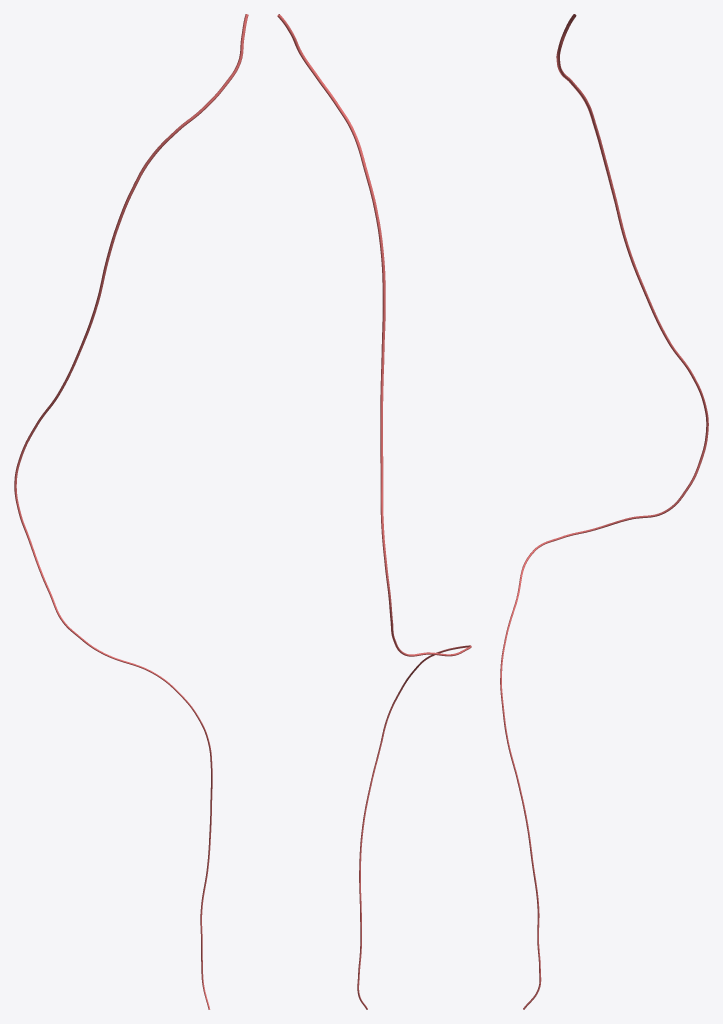
Rendered from Right_testicular_artery.glb.
3 renders of one model, left to right at view 1: azimuth 30°, elevation 25°; view 2: azimuth 150°, elevation 25°; view 3: azimuth 270°, elevation 25°, orthographic. The views are drawn at different scales.
Parts seen in each view (by area): view 1: Right_testicular_artery_BezierCurve.445; view 2: Right_testicular_artery_BezierCurve.445; view 3: Right_testicular_artery_BezierCurve.445.
Part boxes in pixels (x1=…): Right_testicular_artery_BezierCurve.445: x1=14, y1=14, x2=248, y2=1009; Right_testicular_artery_BezierCurve.445: x1=277, y1=14, x2=471, y2=1009; Right_testicular_artery_BezierCurve.445: x1=500, y1=14, x2=708, y2=1009.
Bounding box in the file's own units: 0.0723 × 0.3729 × 0.0686.
